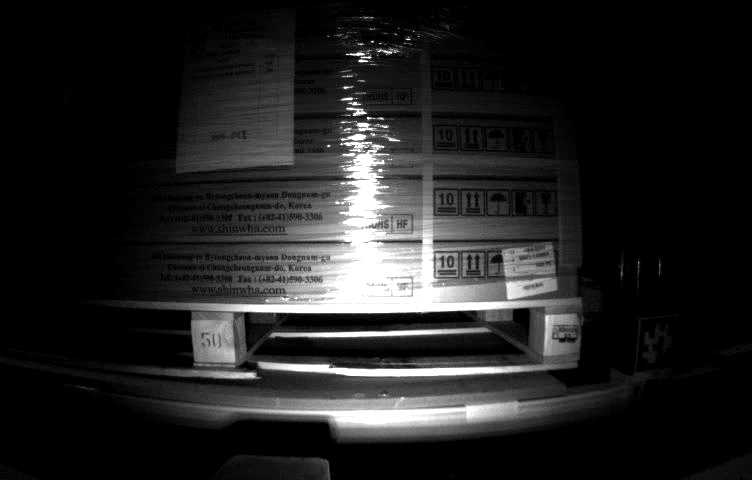True Barcode: (495, 242, 561, 303)
